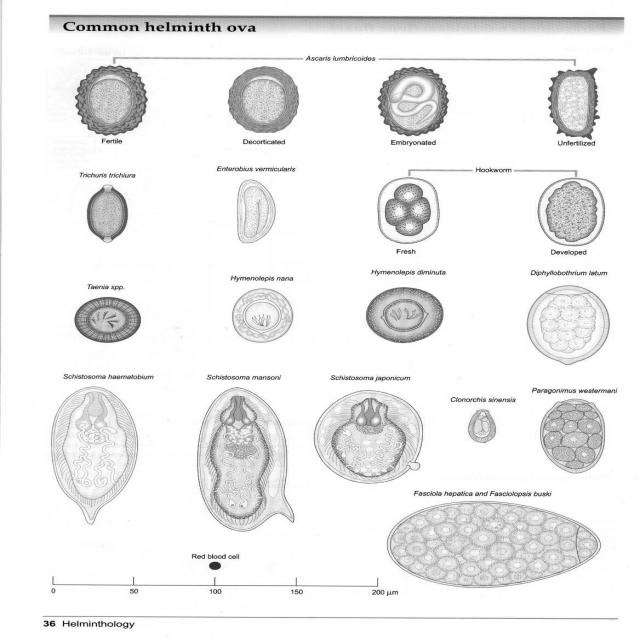Schistosoma: (184, 375, 312, 540), (43, 384, 136, 536)
Taenia Sp: (65, 294, 150, 348)
Trichuris Trichiura: (80, 180, 132, 252)
